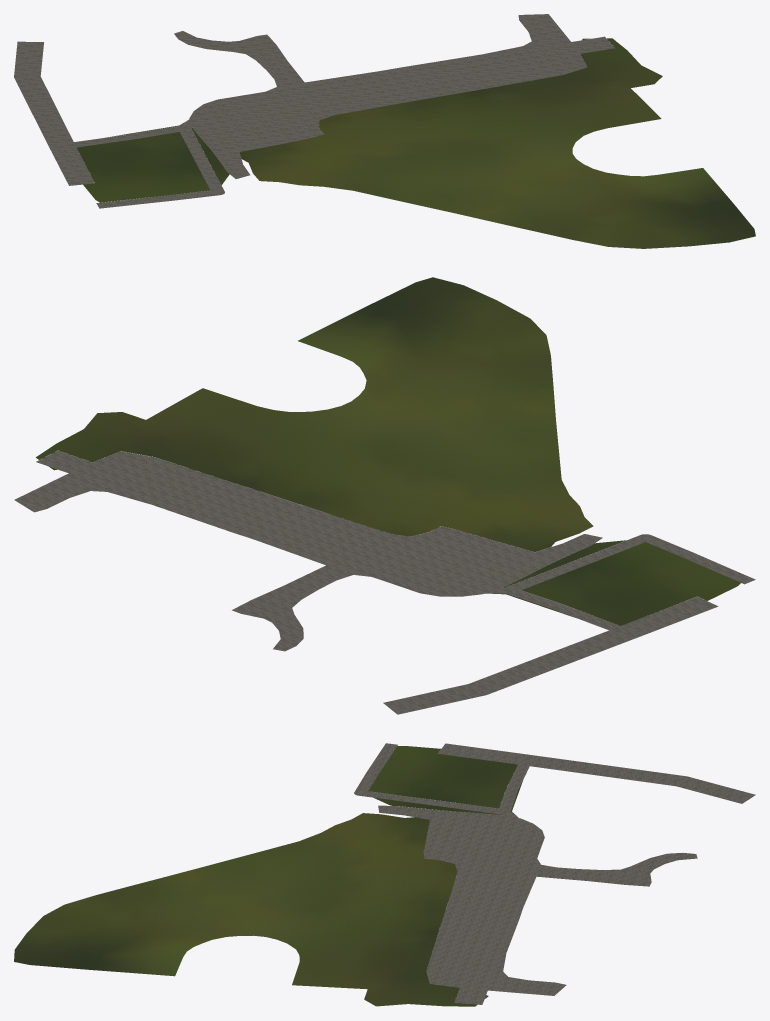
The picture shows the model from 3 angles, top to bottom: view 1: azimuth 30°, elevation 25°; view 2: azimuth 150°, elevation 25°; view 3: azimuth 270°, elevation 25°; orthographic projection. The views are drawn at different scales.
Visible parts, largest first — view 1: Empress Lawn turf, Dalhousie court granite; view 2: Empress Lawn turf, Dalhousie court granite; view 3: Empress Lawn turf, Dalhousie court granite.
Part boxes in pixels (<box>): Empress Lawn turf: <box>76,38,755,248</box>; Dalhousie court granite: <box>14,14,614,208</box>; Empress Lawn turf: <box>36,277,740,625</box>; Dalhousie court granite: <box>14,450,755,714</box>; Empress Lawn turf: <box>14,746,522,1006</box>; Dalhousie court granite: <box>354,743,755,1004</box>.
Size of the model in its own units: 136 by 0.1698 by 161.
Materials: 2 (2 with a texture image).
